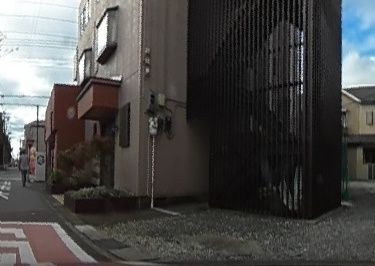person: (20, 149, 29, 184)
